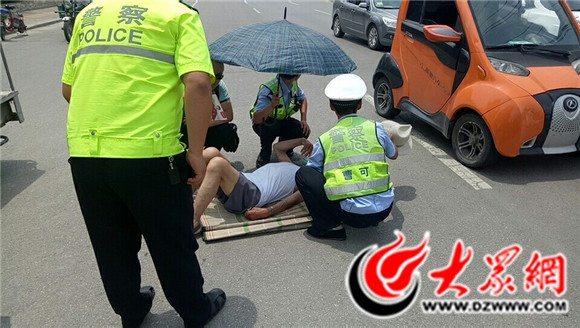falling: (177, 136, 328, 227)
